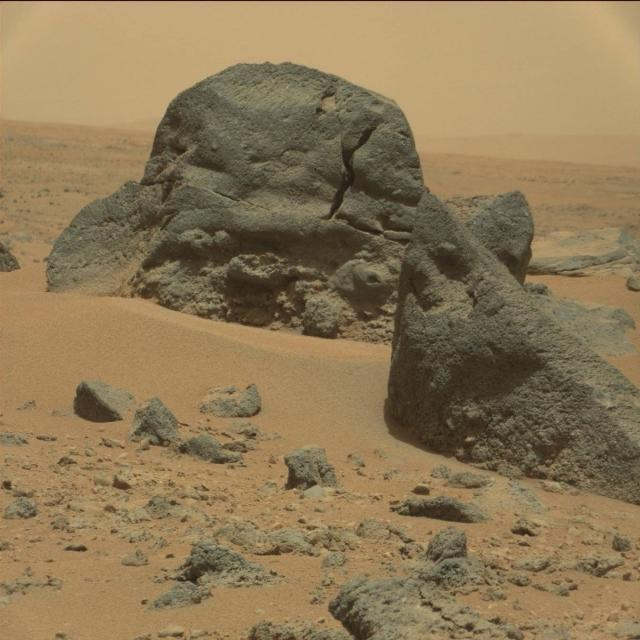red-sand: (0, 120, 462, 477), (0, 513, 324, 639), (422, 154, 640, 259), (529, 275, 640, 386), (464, 571, 640, 625)
rocks: (43, 381, 634, 639), (282, 445, 348, 512)
stone: (47, 62, 424, 341), (386, 191, 640, 503), (447, 190, 534, 284), (391, 495, 488, 523), (2, 479, 40, 519)
